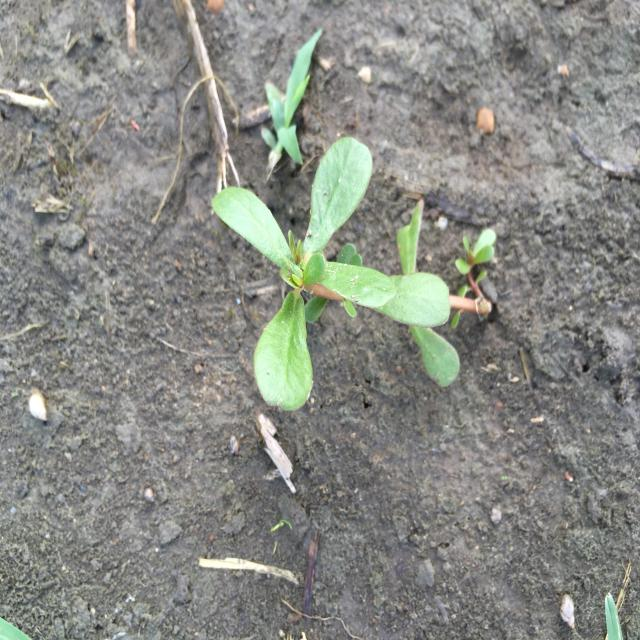Purslane: (210, 133, 500, 416)
